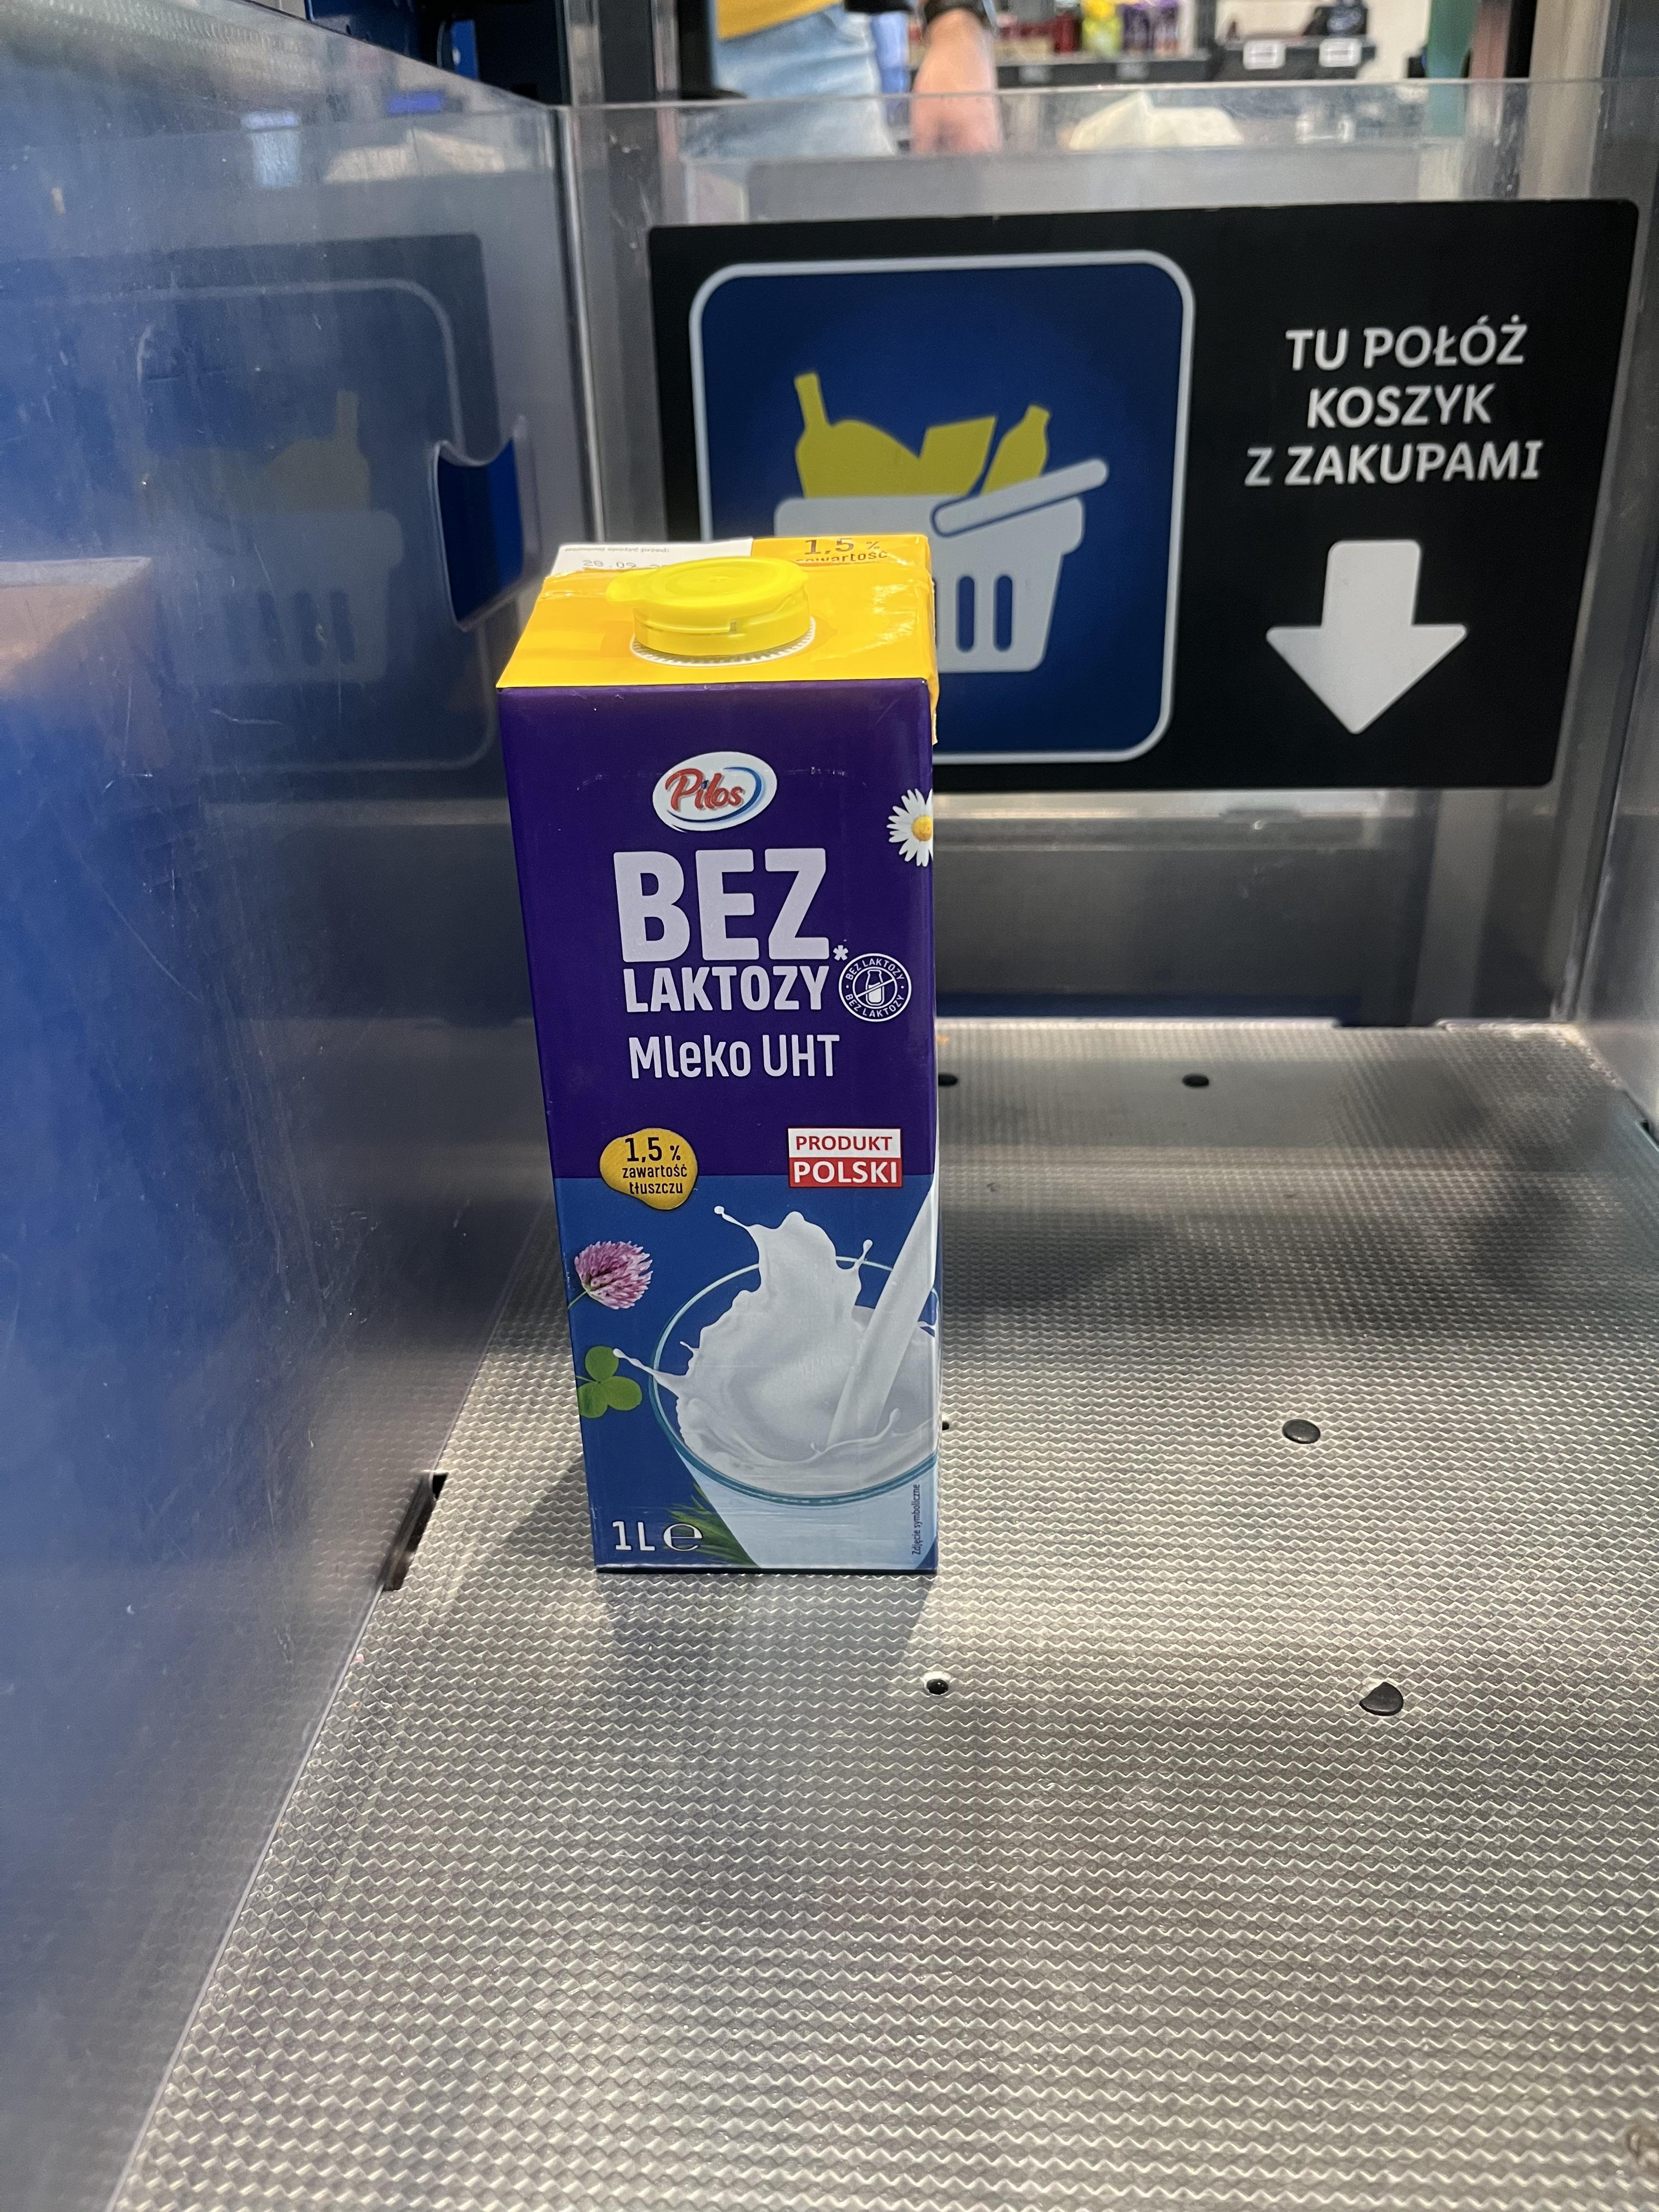Milk: (497, 545, 945, 1569)
